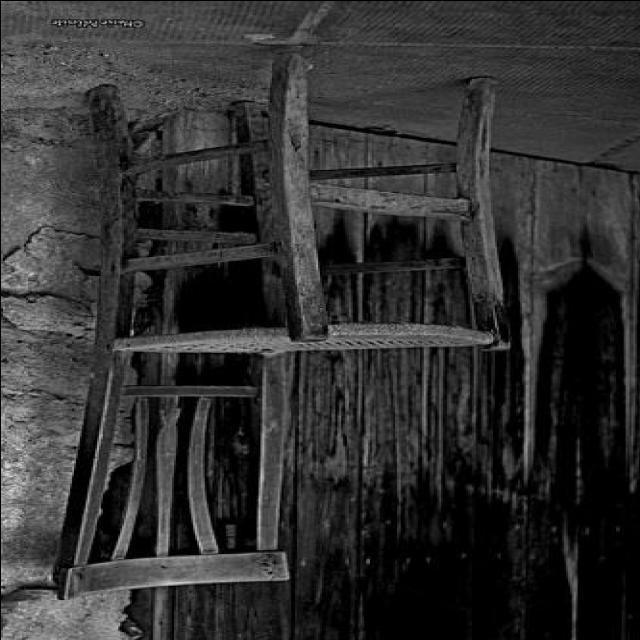chair: (48, 44, 506, 600)
